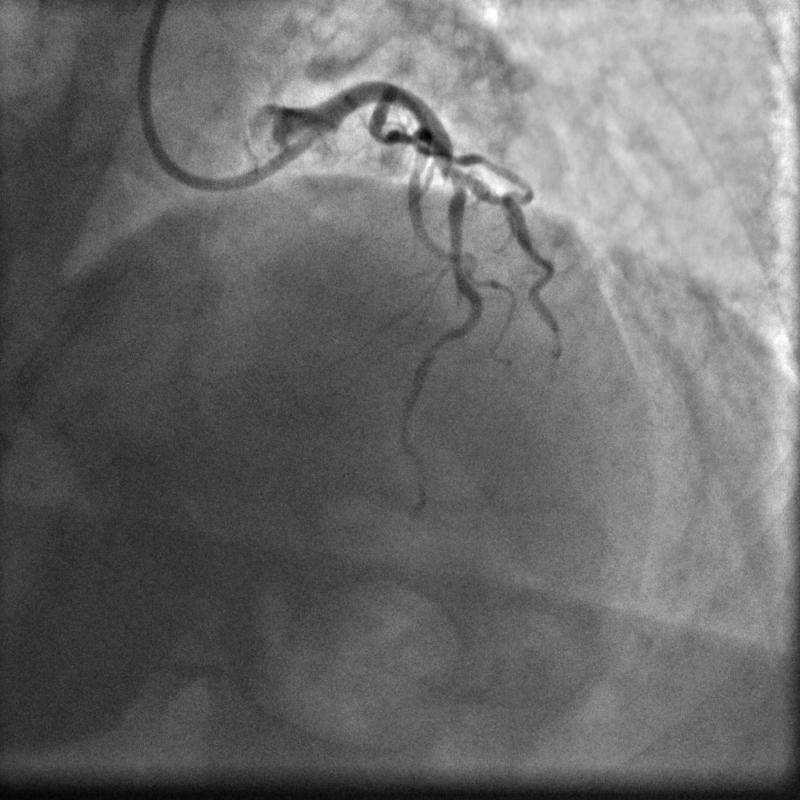Stenosis: (433, 158, 463, 179)
